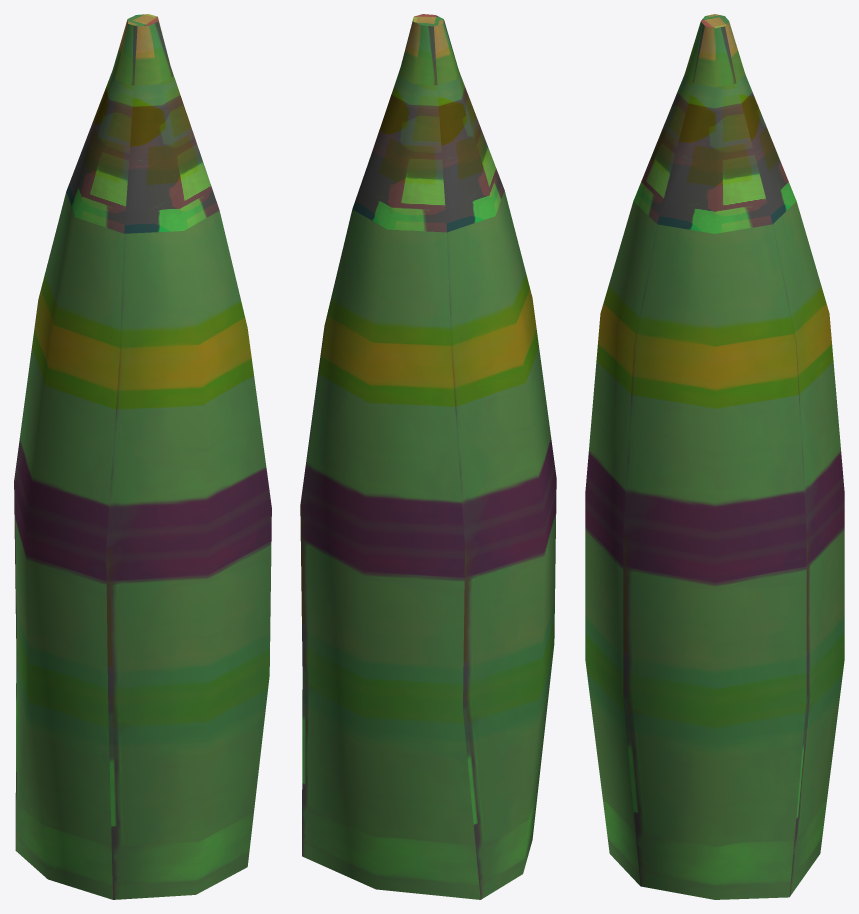
The model's file is zidan.FBX.
3 views of the same model, side by side, from view 1: azimuth 30°, elevation 25°; view 2: azimuth 150°, elevation 25°; view 3: azimuth 270°, elevation 25° (orthographic).
Parts seen in each view (by area): view 1: Cylinder001; view 2: Cylinder001; view 3: Cylinder001.
Part boxes in pixels (box(x1,y1,x2,y2)): Cylinder001: box(14, 14, 271, 899); Cylinder001: box(300, 14, 556, 899); Cylinder001: box(585, 14, 844, 899).
Size of the model in its own units: 9.58 by 32.65 by 9.22.
1 material, 1 textured.
